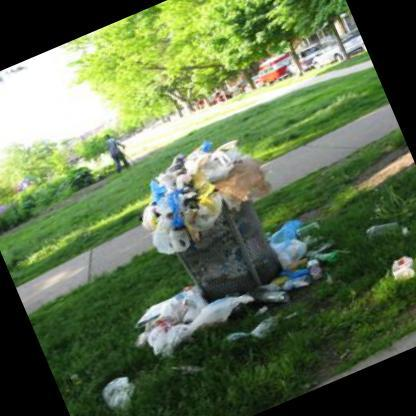Garbage: (112, 122, 284, 264), (266, 202, 338, 286), (118, 291, 191, 354), (122, 169, 197, 227), (128, 278, 202, 334), (218, 148, 283, 208), (170, 140, 232, 200), (219, 310, 292, 356), (92, 365, 148, 415), (141, 216, 192, 268), (183, 297, 244, 338), (374, 247, 415, 298), (275, 227, 316, 273), (182, 196, 228, 236), (260, 274, 304, 308), (176, 140, 218, 170), (162, 154, 204, 184), (366, 210, 403, 242), (149, 325, 181, 358), (150, 193, 184, 219), (274, 209, 306, 236), (218, 141, 244, 163)
